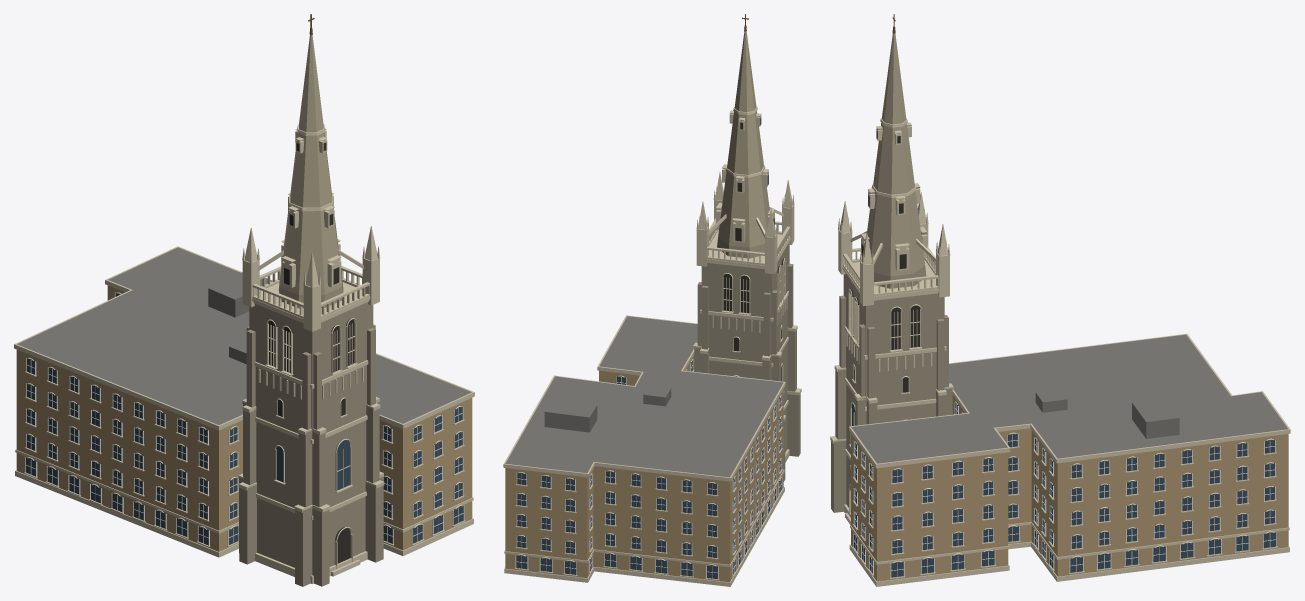
The model's file is christ_church_lancaster_gate.glb.
The picture shows the model from 3 angles, left to right: view 1: azimuth 30°, elevation 25°; view 2: azimuth 150°, elevation 25°; view 3: azimuth 270°, elevation 25°; orthographic projection. The views are drawn at different scales.
Size of the model in its own units: 36.4 by 64.28 by 53.05.
